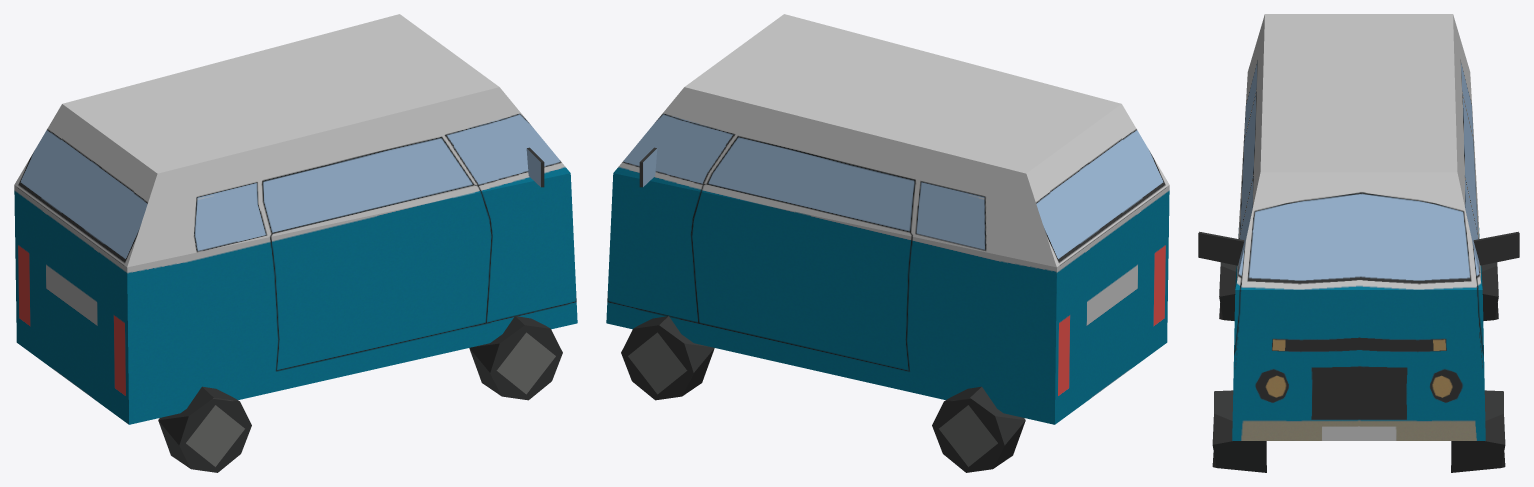
Rendered from KombiLOD1.fbx.
3 views of the same model, side by side, from view 1: azimuth 30°, elevation 25°; view 2: azimuth 150°, elevation 25°; view 3: azimuth 270°, elevation 25° (orthographic).
Parts seen in each view (by area): view 1: kombiLOD1; view 2: kombiLOD1; view 3: kombiLOD1.
Part boxes in pixels (x1,y1,x2,y2): kombiLOD1: [14, 14, 577, 472]; kombiLOD1: [606, 14, 1169, 472]; kombiLOD1: [1198, 14, 1519, 472].
Size of the model in its own units: 566 by 362 by 361.
